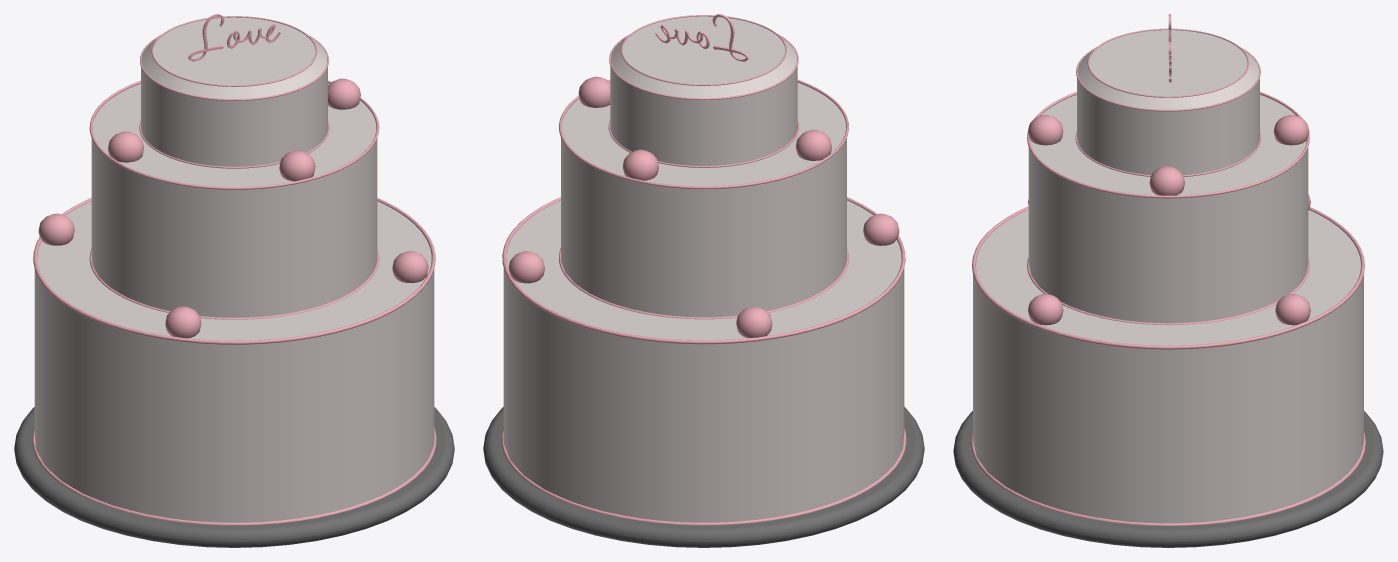
3 renders of one model, left to right at view 1: azimuth 30°, elevation 25°; view 2: azimuth 150°, elevation 25°; view 3: azimuth 270°, elevation 25°, orthographic. The views are drawn at different scales.
Visible parts, largest first — view 1: Cake 3, Cake 2, Cake 1, Circle, Cream Base 05, Cream Base 06, Cream Base 03, Cream Ball 7, Cream Ball 6, Cream Ball 5, Cream Ball 1, Cream Ball 3 (+5 smaller); view 2: Cake 3, Cake 2, Cake 1, Circle, Cream Base 05, Cream Base 06, Cream Base 03, Cream Ball 5, Cream Ball 8, Cream Ball 7, Cream Ball 1, Cream Ball 4 (+5 smaller); view 3: Cake 3, Cake 2, Cake 1, Circle, Cream Base 05, Cream Base 06, Cream Base 03, Cream Ball 6, Cream Ball 8, Cream Ball 3, Cream Ball 4, Cream Ball 2 (+3 smaller).
Part boxes in pixels (box(x1,y1,x2,y2)): Cake 3: box(34, 201, 434, 522); Cake 2: box(91, 83, 377, 317); Cake 1: box(141, 17, 327, 166); Circle: box(14, 407, 454, 547); Cream Base 05: box(33, 198, 435, 344); Cream Base 06: box(32, 427, 436, 525); Cream Base 03: box(89, 80, 379, 189); Cream Ball 7: box(38, 213, 74, 245); Cream Ball 6: box(392, 251, 428, 282); Cream Ball 5: box(165, 306, 201, 338); Cream Ball 1: box(108, 131, 143, 162); Cream Ball 3: box(279, 150, 315, 181); Cake 3: box(503, 200, 904, 522); Cake 2: box(561, 82, 846, 317); Cake 1: box(610, 16, 797, 165); Circle: box(483, 407, 924, 547); Cream Base 05: box(502, 197, 905, 344); Cream Base 06: box(501, 427, 906, 525); Cream Base 03: box(559, 79, 848, 189); Cream Ball 5: box(863, 213, 899, 245); Cream Ball 8: box(508, 251, 544, 283); Cream Ball 7: box(736, 306, 772, 338); Cream Ball 1: box(796, 129, 831, 160); Cream Ball 4: box(622, 149, 658, 180); Cake 3: box(973, 209, 1363, 523); Cake 2: box(1028, 94, 1308, 323); Cake 1: box(1077, 30, 1259, 175); Circle: box(953, 411, 1383, 547); Cream Base 05: box(972, 206, 1364, 349); Cream Base 06: box(971, 432, 1365, 525); Cream Base 03: box(1027, 91, 1309, 198); Cream Ball 6: box(1028, 294, 1063, 325); Cream Ball 8: box(1275, 294, 1310, 325); Cream Ball 3: box(1027, 115, 1063, 145); Cream Ball 4: box(1273, 115, 1309, 145); Cream Ball 2: box(1149, 166, 1184, 195).
Bounding box in the file's own units: 2.2 × 2.46 × 2.2.
